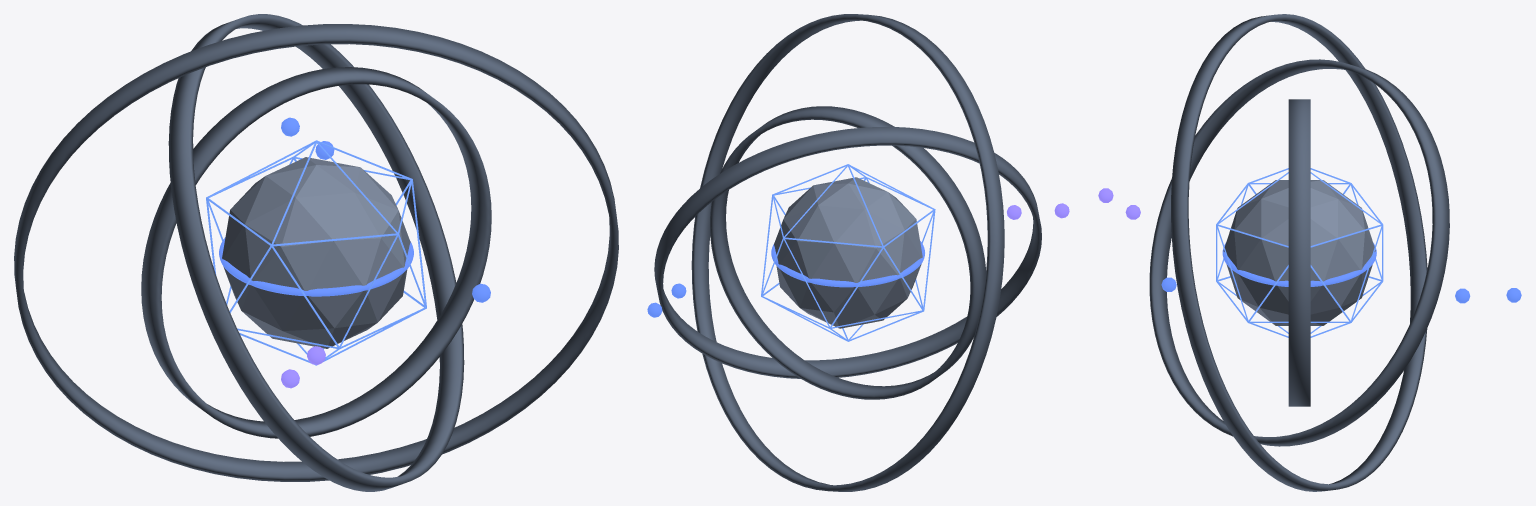
File: apogee.glb
3 renders of one model, left to right at view 1: azimuth 30°, elevation 25°; view 2: azimuth 150°, elevation 25°; view 3: azimuth 270°, elevation 25°, orthographic. The views are drawn at different scales.
Visible parts, largest first — view 1: Ring_3, Core, Ring_2, Ring_1, Inner_Halo, Core_Band; view 2: Ring_3, Core, Ring_2, Ring_1, Inner_Halo, Core_Band; view 3: Ring_3, Ring_2, Core, Ring_1, Inner_Halo, Core_Band.
Boxes of the visible parts, x1=… form: Ring_3: x1=14, y1=24, x2=618, y2=481; Core: x1=222, y1=157, x2=410, y2=348; Ring_2: x1=168, y1=14, x2=464, y2=491; Ring_1: x1=141, y1=67, x2=491, y2=438; Inner_Halo: x1=206, y1=140, x2=426, y2=365; Core_Band: x1=219, y1=237, x2=413, y2=296; Ring_3: x1=691, y1=14, x2=1004, y2=491; Core: x1=774, y1=177, x2=922, y2=328; Ring_2: x1=654, y1=127, x2=1041, y2=378; Ring_1: x1=710, y1=106, x2=985, y2=399; Inner_Halo: x1=761, y1=164, x2=935, y2=341; Core_Band: x1=771, y1=241, x2=924, y2=287; Ring_3: x1=1171, y1=14, x2=1427, y2=491; Ring_2: x1=1149, y1=59, x2=1449, y2=446; Core: x1=1223, y1=180, x2=1375, y2=325; Ring_1: x1=1288, y1=99, x2=1310, y2=406; Inner_Halo: x1=1216, y1=168, x2=1383, y2=337; Core_Band: x1=1222, y1=242, x2=1376, y2=286.
Bounding box in the file's own units: 3.01 × 3.12 × 2.86.
